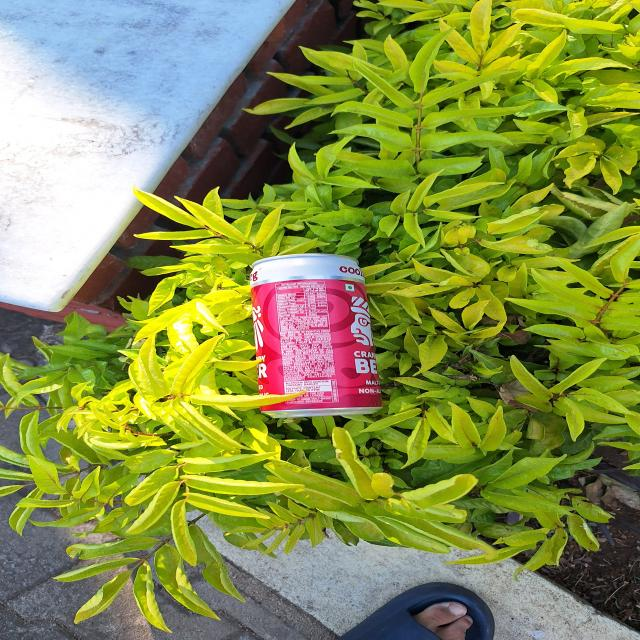Coolberg: (248, 251, 379, 418)
